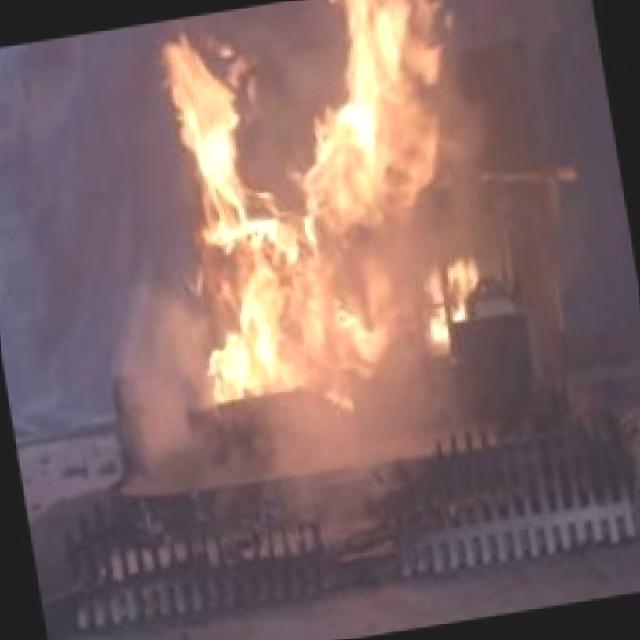fire: (118, 0, 553, 491)
